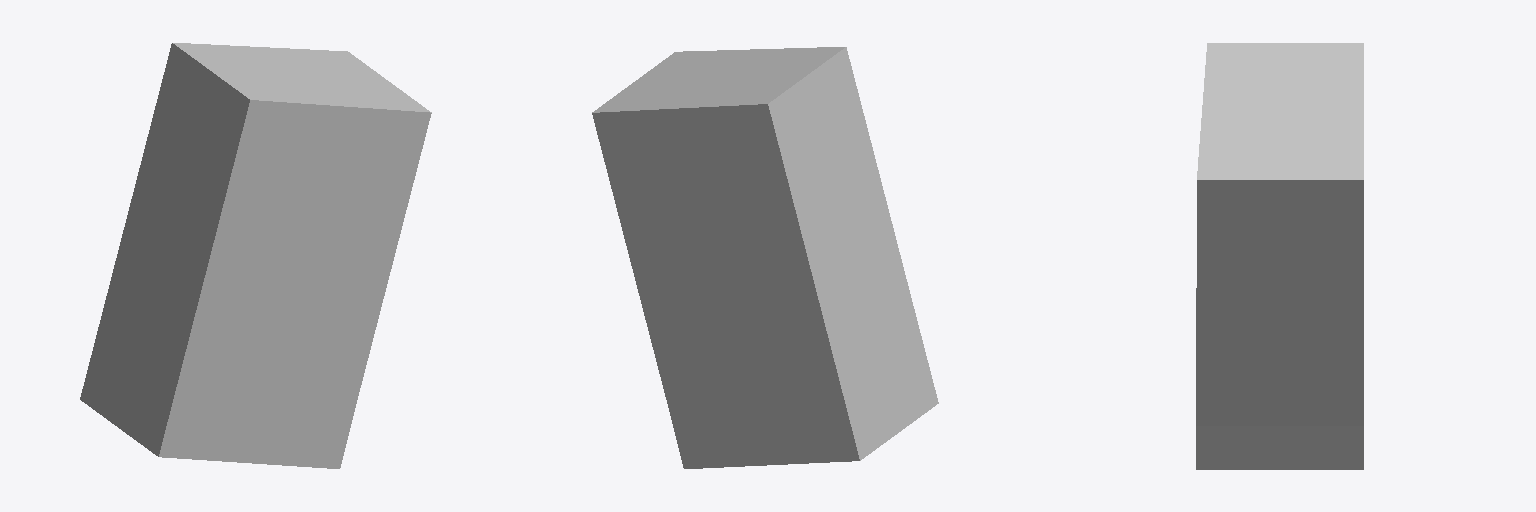
The model's file is talo_Build0000040.obj.
3 views of the same model, side by side, from view 1: azimuth 30°, elevation 25°; view 2: azimuth 150°, elevation 25°; view 3: azimuth 270°, elevation 25° (orthographic).
Bounding box in the file's own units: 6.42 × 8.83 × 3.48.